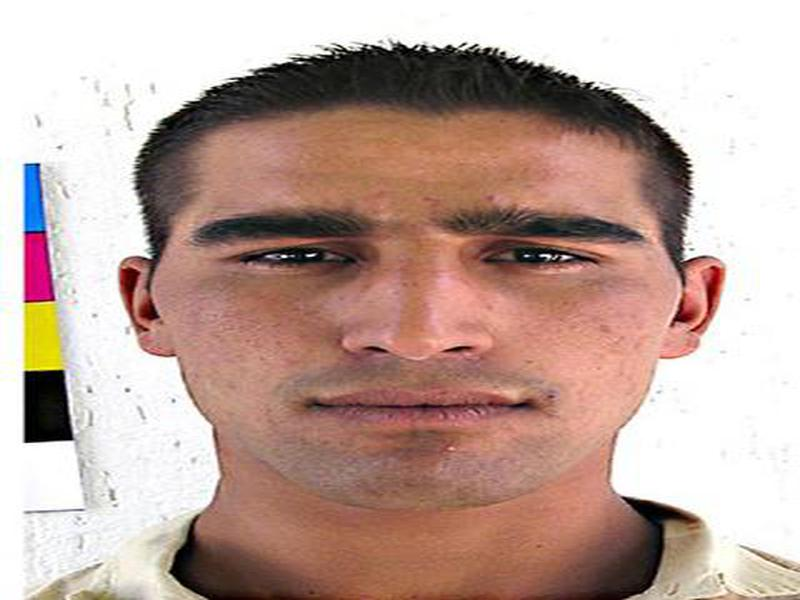without_mask: (174, 116, 657, 518)
